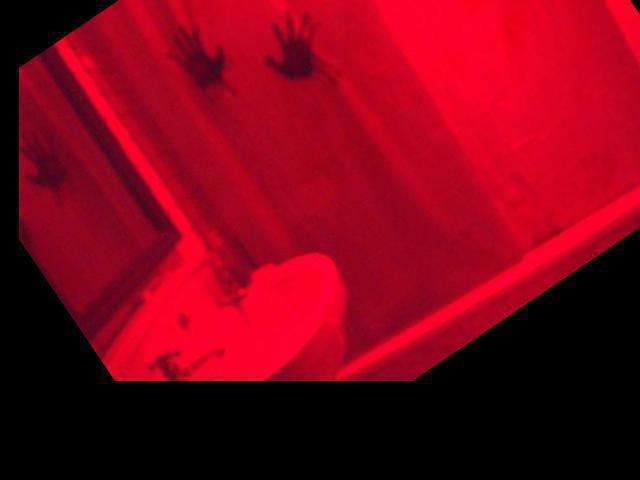Ducha: (105, 0, 640, 415)
Lavamanos: (101, 211, 386, 478)
